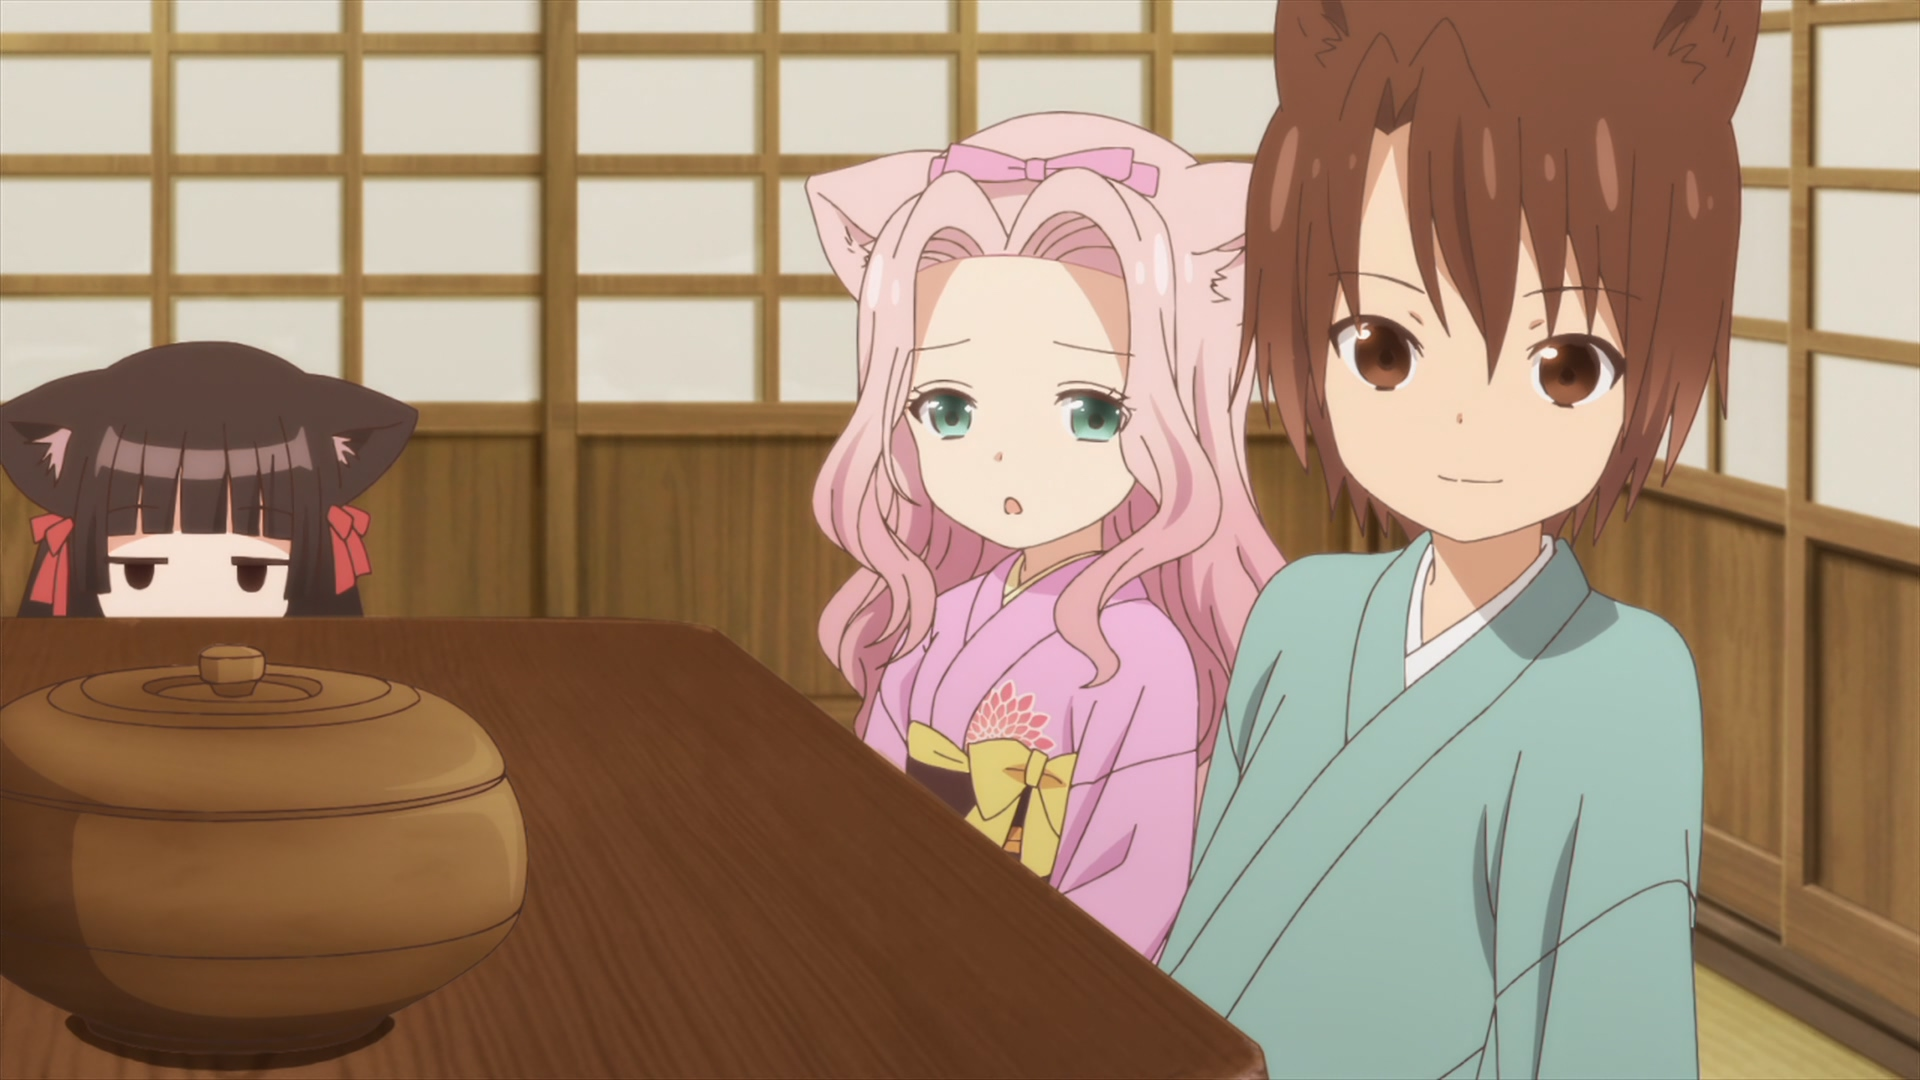枣: (1158, 1, 1762, 1080)
樱: (1, 342, 421, 616)
莲: (804, 112, 1284, 965)
